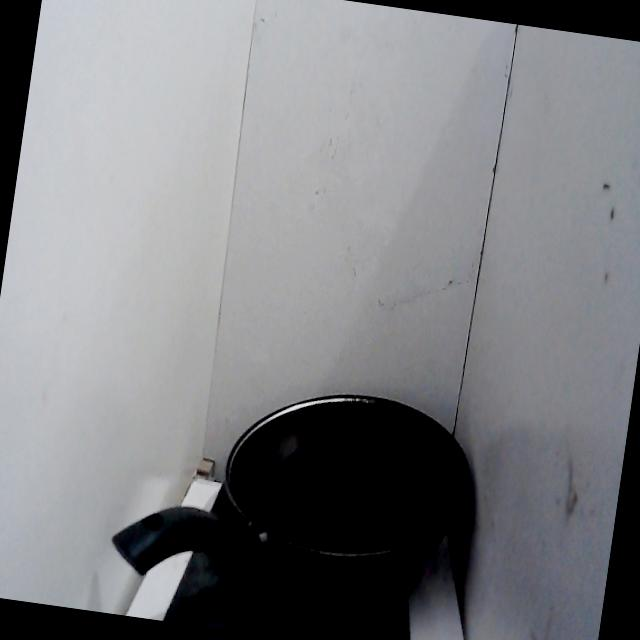metal: (100, 356, 490, 638)
